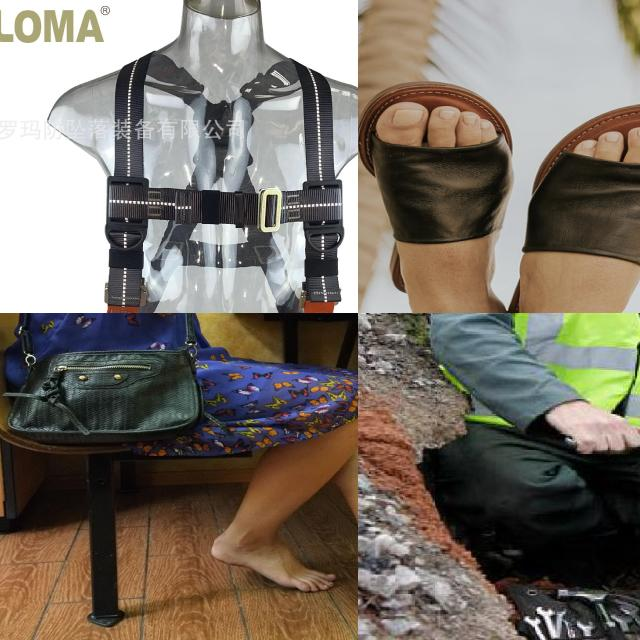Barefoots: (211, 532, 337, 592)
Harness: (90, 48, 353, 313)
Sandals: (358, 79, 516, 297), (523, 100, 640, 313)
person: (406, 313, 640, 588)
vest: (441, 313, 640, 453)
